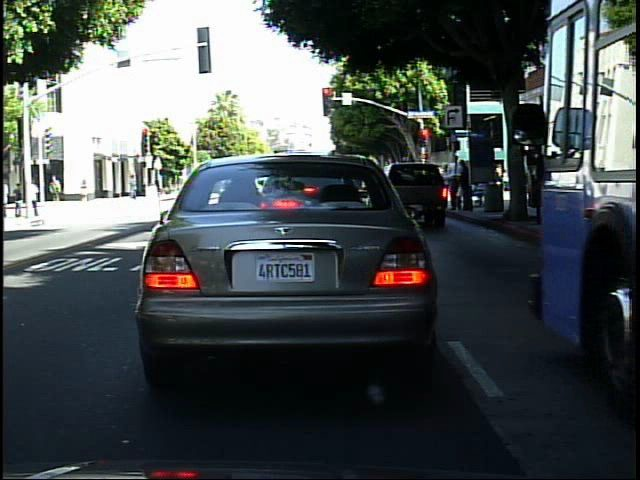person: (48, 170, 67, 203), (11, 179, 26, 220), (76, 174, 94, 207), (30, 172, 43, 216), (125, 169, 142, 202)
